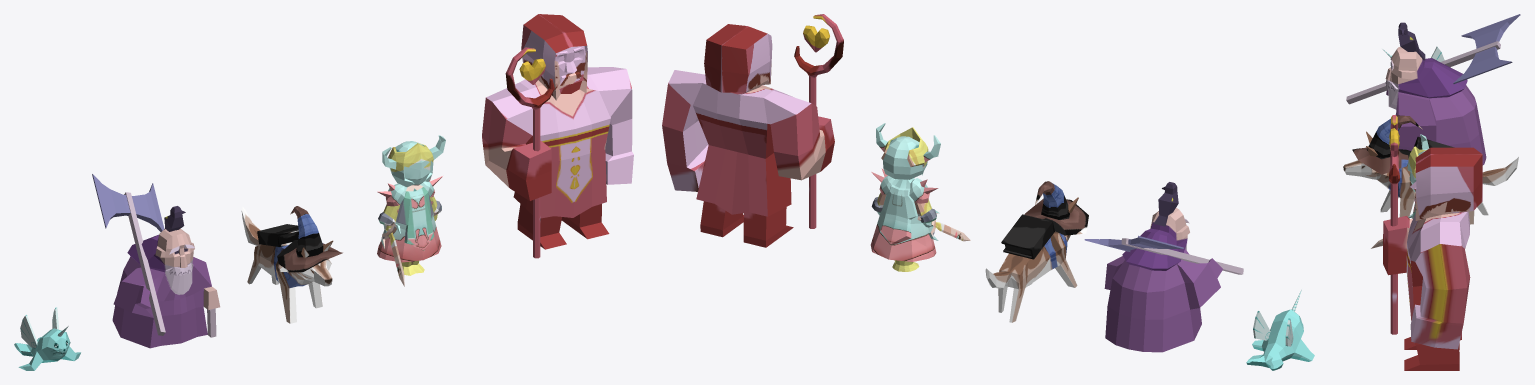
The model's file is lineup_test.fbx.
3 renders of one model, left to right at view 1: azimuth 30°, elevation 25°; view 2: azimuth 150°, elevation 25°; view 3: azimuth 270°, elevation 25°, orthographic.
Visible parts, largest first — view 1: STP_body, STP_polySurface_Pauwn, nana_body, STP_dog_body, LupusHat, STP_pCube4, staff, STP_polySurface_Body, STP_pCube3, STP_Dog_bag; view 2: STP_body, STP_polySurface_Pauwn, nana_body, STP_dog_body, STP_polySurface_Body, LupusHat, STP_Dog_bag, staff, STP_pCube4, STP_pCube3, STP_polySurface_Raven, STP_polySurface_Wings; view 3: STP_body, STP_polySurface_Pauwn, STP_dog_body, STP_pCube4, LupusHat, staff, STP_pCube3, STP_polySurface_Raven, nana_body, STP_heart, STP_Dog_bag.
Part boxes in pixels (x1,y1,x2,y2): STP_body: (482, 14, 633, 249); STP_polySurface_Pauwn: (112, 228, 220, 348); nana_body: (377, 135, 445, 275); STP_dog_body: (241, 206, 333, 323); LupusHat: (277, 206, 342, 272); STP_pCube4: (92, 174, 164, 231); staff: (505, 47, 554, 258); STP_polySurface_Body: (14, 328, 80, 370); STP_pCube3: (124, 192, 165, 335); STP_Dog_bag: (257, 224, 298, 246); STP_body: (662, 24, 834, 247); STP_polySurface_Pauwn: (1104, 208, 1222, 352); nana_body: (870, 123, 940, 271); STP_dog_body: (985, 197, 1078, 322); STP_polySurface_Body: (1246, 309, 1314, 370); LupusHat: (1024, 181, 1088, 235); STP_Dog_bag: (1001, 214, 1054, 259); staff: (794, 14, 843, 228); STP_pCube4: (1084, 235, 1183, 251); STP_pCube3: (1121, 238, 1243, 274); STP_polySurface_Raven: (1153, 182, 1178, 226); STP_polySurface_Wings: (1253, 311, 1293, 346); STP_body: (1383, 147, 1482, 370); STP_polySurface_Pauwn: (1385, 47, 1486, 165); STP_dog_body: (1343, 131, 1518, 224); STP_pCube4: (1453, 14, 1520, 83); LupusHat: (1352, 115, 1422, 174); staff: (1389, 115, 1399, 334); STP_pCube3: (1346, 41, 1500, 104); STP_polySurface_Raven: (1398, 22, 1425, 60); nana_body: (1407, 134, 1429, 218); STP_heart: (1389, 128, 1399, 156); STP_Dog_bag: (1414, 136, 1454, 149).
Size of the model in its own units: 221 by 72.16 by 54.4.
Materials: 1 (1 with a texture image).
